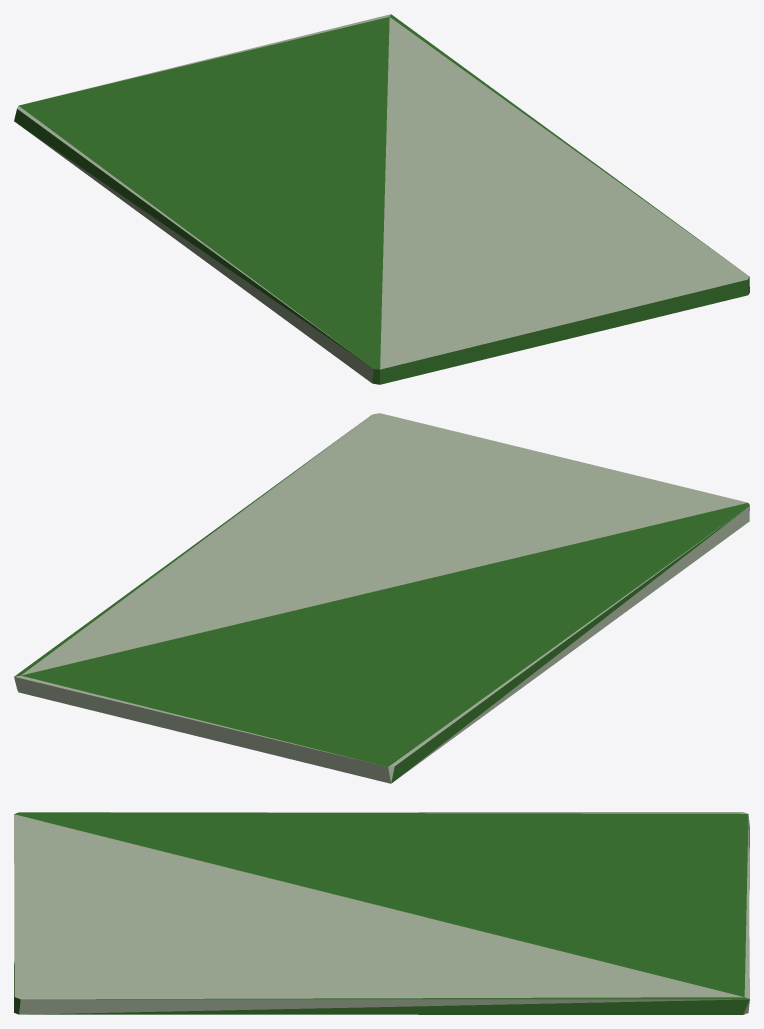
File: ALFOMBRACORREGIDA.fbx
The picture shows the model from 3 angles, top to bottom: view 1: azimuth 30°, elevation 25°; view 2: azimuth 150°, elevation 25°; view 3: azimuth 270°, elevation 25°; orthographic projection.
Visible parts, largest first — view 1: Cubo.026; view 2: Cubo.026; view 3: Cubo.026.
Boxes of the visible parts, bbox=[...] form: Cubo.026: bbox=[14, 14, 749, 384]; Cubo.026: bbox=[14, 413, 749, 783]; Cubo.026: bbox=[14, 812, 749, 1014].
Size of the model in its own units: 436 by 17.09 by 723.
